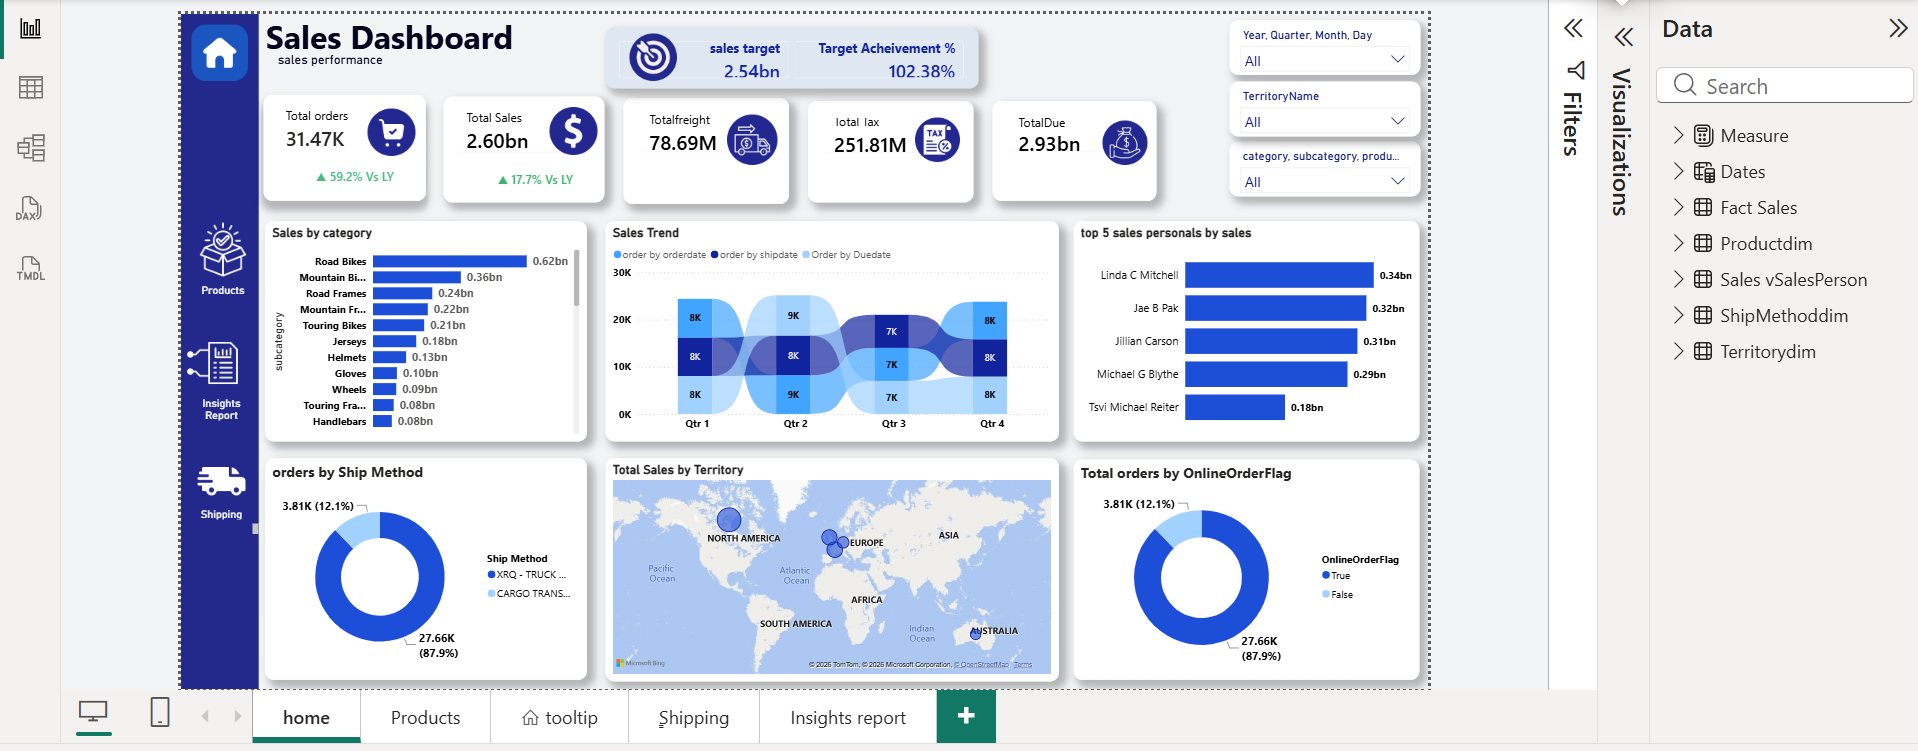

This screenshot's page, from the dashboard's own definition file:
{"tool":"powerbi","page":{"name":"home","canvas":[1662,900],"ordinal":0},"visuals":[{"type":"clusteredBarChart","title":"Sales  by category","fields":{"Category":["Productdim.product Hierarchy.category","Productdim.product Hierarchy.subcategory","Productdim.product Hierarchy.product"],"Y":["Measure.TotalDue "]},"box":[111.3,276.4,429.5,294.3],"z":0},{"type":"cardVisual","fields":{"Data":["Measure.Total subtotal"]},"box":[350.9,109.4,214.7,141.2],"z":1000},{"type":"cardVisual","fields":{"Data":["Measure.Total Tax Measure"]},"box":[836.1,115.3,220.7,135.2],"z":2000},{"type":"cardVisual","fields":{"Data":["Measure.TotalDue Measure"]},"box":[1081.6,115.3,218.7,133.2],"z":3000},{"type":"donutChart","title":"orders by Ship Method","fields":{"Category":["ShipMethoddim.Name"],"Y":["Measure.Total orders"]},"box":[111.3,592.5,429.5,296.3],"z":4000},{"type":"donutChart","fields":{"Category":["Fact Sales.OnlineOrderFlag"],"Y":["Measure.Total orders"]},"box":[1191,594.5,461.3,294.3],"z":5000},{"type":"clusteredBarChart","title":"top 5 sales personals by sales","fields":{"Category":["Sales vSalesPerson.fullname"],"Y":["Measure.Total Sales"]},"box":[1191,276.4,461.3,294.3],"z":6000},{"type":"shape","box":[0,0,103.4,900.7],"z":7000},{"type":"image","box":[2,13.9,99.4,75.6],"z":8000},{"type":"textbox","title":"Insights Report","box":[0,510,108,60],"z":9000},{"type":"image","box":[14,278,84,72],"z":10000},{"type":"textbox","title":"Products","box":[2,360,108,58],"z":11000},{"type":"image","box":[14,604,80,64],"z":12000},{"type":"textbox","title":"Shipping","box":[0,658,108,40],"z":13000},{"type":"textbox","title":"Sales Dashboard","box":[108.7,0,344.4,96.4],"z":14000},{"type":"textbox","title":"sales performance","box":[123,49.2,258.3,49.2],"z":15000},{"type":"cardVisual","fields":{"Data":["Measure.Total orders"]},"box":[109.4,107.4,216.7,141.2],"z":16000},{"type":"cardVisual","fields":{"Data":["Measure.Totalfright"]},"box":[590.5,111.3,220.7,141.2],"z":17000},{"type":"image","box":[240.6,125.3,81.5,63.6],"z":18000},{"type":"image","box":[958.3,137.2,101.4,59.6],"z":19000},{"type":"image","box":[484,124,78,64],"z":20000},{"type":"image","box":[707.8,133.2,107.4,67.6],"z":21000},{"type":"image","box":[1204.9,141.2,109.4,59.6],"z":22000},{"type":"ribbonChart","title":"Sales Trend","fields":{"Category":["Dates.Date.Variation.Date Hierarchy.Year","Dates.Date.Variation.Date Hierarchy.Quarter","Dates.Date.Variation.Date Hierarchy.Month","Dates.Date.Variation.Date Hierarchy.Day"],"Y":["Measure.order by orderdate","Measure.order by shipdate","Measure.Order by Duedate"]},"box":[566.7,276.4,604.4,294.3],"z":23000},{"type":"slicer","fields":{"Values":["Dates.Date.Variation.Date Hierarchy.Year","Dates.Date.Variation.Date Hierarchy.Quarter","Dates.Date.Variation.Date Hierarchy.Month","Dates.Date.Variation.Date Hierarchy.Day"]},"box":[1397.7,8,254.5,73.6],"z":24000},{"type":"slicer","fields":{"Values":["Productdim.product Hierarchy.category","Productdim.product Hierarchy.subcategory","Productdim.product Hierarchy.product"]},"box":[1397.7,171,254.5,73.6],"z":25000},{"type":"slicer","fields":{"Values":["Sales vSalesPerson.TerritoryName"]},"box":[1397.7,89.5,254.5,73.6],"z":26000},{"type":"map","title":"Total Sales by Territory","fields":{"Category":["Territorydim.Name"],"Size":["Measure.Total Sales"]},"box":[566.7,592.5,604.4,298.2],"z":27000},{"type":"cardVisual","fields":{"Data":["Measure.sales target","Measure.Target Acheivement %"]},"box":[566.7,17.9,497.1,81.5],"z":28000},{"type":"image","box":[586.5,25.8,87.5,63.6],"z":29000},{"type":"actionButton","box":[0,288,100,118],"z":30000},{"type":"image","box":[6,420,72,90],"z":31000},{"type":"actionButton","box":[0,430,100,110],"z":32000},{"type":"actionButton","box":[0,594,124,90],"z":33000}]}

Visuals, with their boxes on the page's 1662x900 design canvas (x1, y1, x2, y2). These are canvas units, not pixel positions in the 1918x751 screenshot, which may show the page scaled, cropped or inside an application window:
"Sales  by category" clusteredBarChart: box=[111, 276, 541, 571]
cardVisual - Measure.Total subtotal: box=[351, 109, 566, 251]
cardVisual - Measure.Total Tax Measure: box=[836, 115, 1057, 250]
cardVisual - Measure.TotalDue Measure: box=[1082, 115, 1300, 248]
"orders by Ship Method" donutChart: box=[111, 592, 541, 889]
donutChart - Fact Sales.OnlineOrderFlag x Measure.Total orders: box=[1191, 594, 1652, 889]
"top 5 sales personals by sales" clusteredBarChart: box=[1191, 276, 1652, 571]
shape: box=[0, 0, 103, 901]
image: box=[2, 14, 101, 90]
"Insights Report" textbox: box=[0, 510, 108, 570]
image: box=[14, 278, 98, 350]
"Products" textbox: box=[2, 360, 110, 418]
image: box=[14, 604, 94, 668]
"Shipping" textbox: box=[0, 658, 108, 698]
"Sales Dashboard" textbox: box=[109, 0, 453, 96]
"sales performance" textbox: box=[123, 49, 381, 98]
cardVisual - Measure.Total orders: box=[109, 107, 326, 249]
cardVisual - Measure.Totalfright: box=[590, 111, 811, 252]
image: box=[241, 125, 322, 189]
image: box=[958, 137, 1060, 197]
image: box=[484, 124, 562, 188]
image: box=[708, 133, 815, 201]
image: box=[1205, 141, 1314, 201]
"Sales Trend" ribbonChart: box=[567, 276, 1171, 571]
slicer - Dates.Date.Variation.Date Hierarchy.Year x Dates.Date.Variation.Date Hierarchy.Quarter: box=[1398, 8, 1652, 82]
slicer - Productdim.product Hierarchy.category x Productdim.product Hierarchy.subcategory: box=[1398, 171, 1652, 245]
slicer - Sales vSalesPerson.TerritoryName: box=[1398, 90, 1652, 163]
"Total Sales by Territory" map: box=[567, 592, 1171, 891]
cardVisual - Measure.sales target x Measure.Target Acheivement %: box=[567, 18, 1064, 99]
image: box=[586, 26, 674, 89]
actionButton: box=[0, 288, 100, 406]
image: box=[6, 420, 78, 510]
actionButton: box=[0, 430, 100, 540]
actionButton: box=[0, 594, 124, 684]
